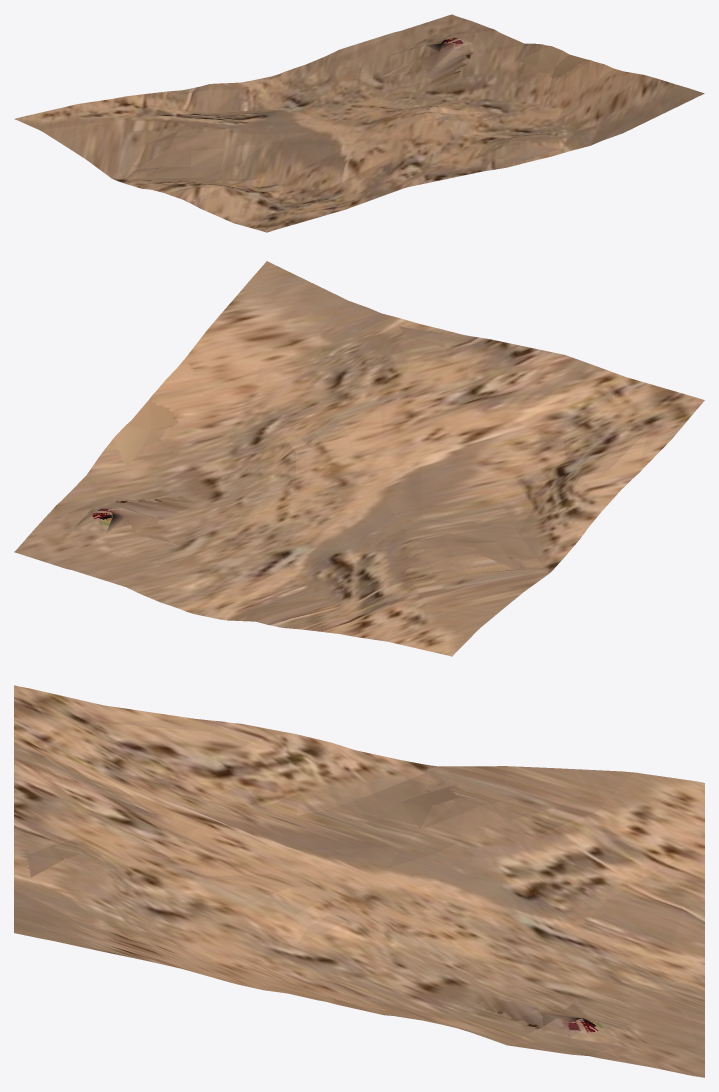
3 views of the same model, one above another, from view 1: azimuth 30°, elevation 25°; view 2: azimuth 150°, elevation 25°; view 3: azimuth 270°, elevation 25° (orthographic). The views are drawn at different scales.
Bounding box in the file's own units: 1.04 × 0.2826 × 1.04.
Materials: 3 (3 with a texture image).
